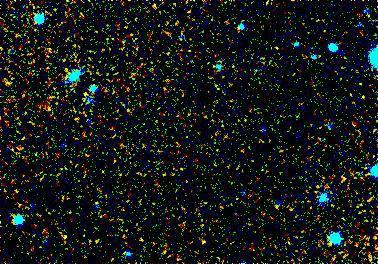star: (67, 79, 97, 109)
